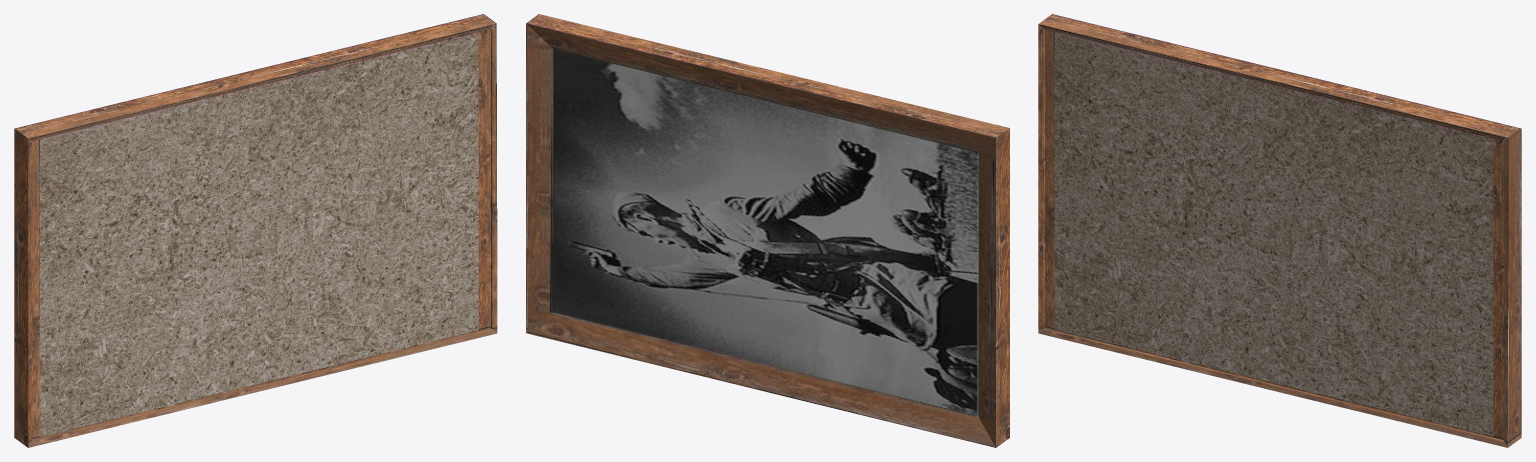
The model's file is photo_frame_ww2_6.fbx.
3 renders of one model, left to right at view 1: azimuth 30°, elevation 25°; view 2: azimuth 150°, elevation 25°; view 3: azimuth 330°, elevation 25°, orthographic.
Visible parts, largest first — view 1: Box001; view 2: Box001; view 3: Box001.
Boxes of the visible parts, x1,y1,x2,y2 form: Box001: (14,14,497,447); Box001: (526,14,1009,447); Box001: (1038,14,1521,447).
Size of the model in its own units: 15.03 by 9.47 by 0.7599.
Materials: 1 (1 with a texture image).
